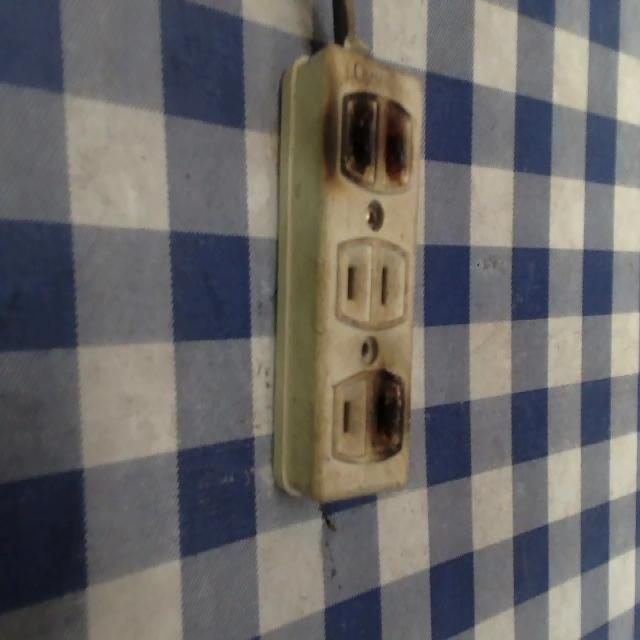-: (320, 79, 422, 201), (362, 361, 413, 468)
